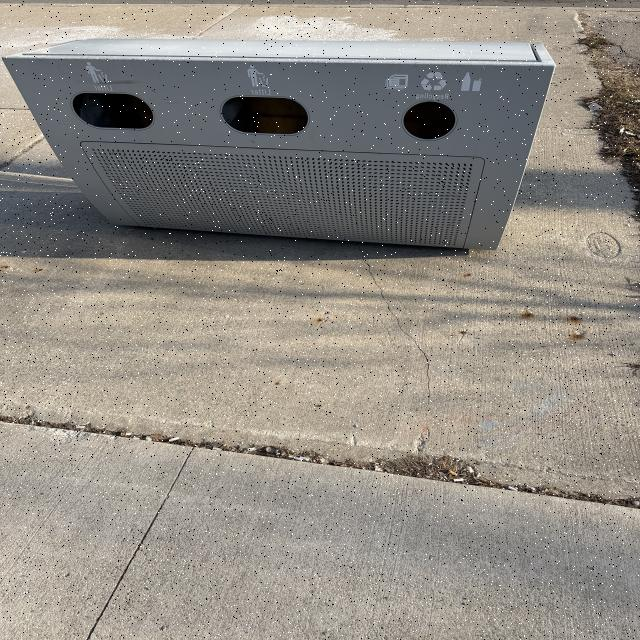Dustbin: (2, 38, 556, 256)
